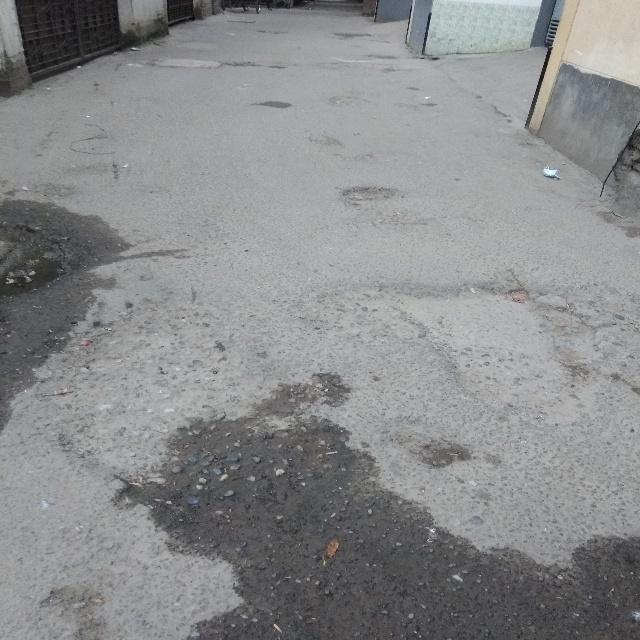Surface Erosion: (68, 123, 640, 624)
